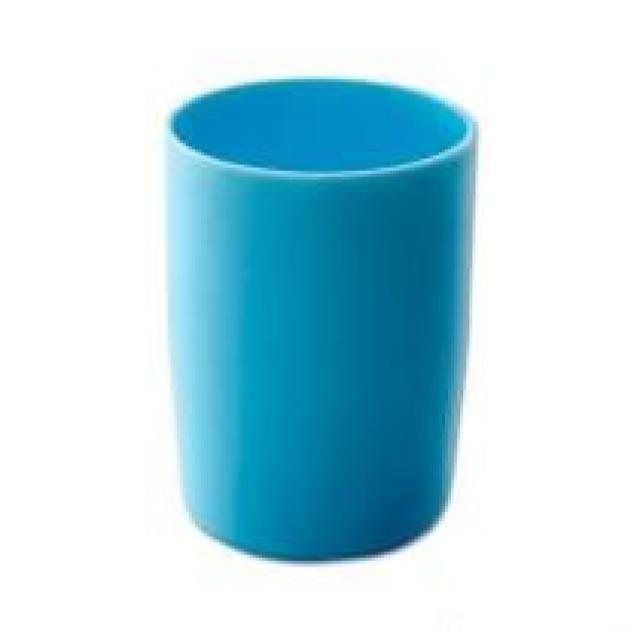Plastic: (171, 80, 484, 564)
